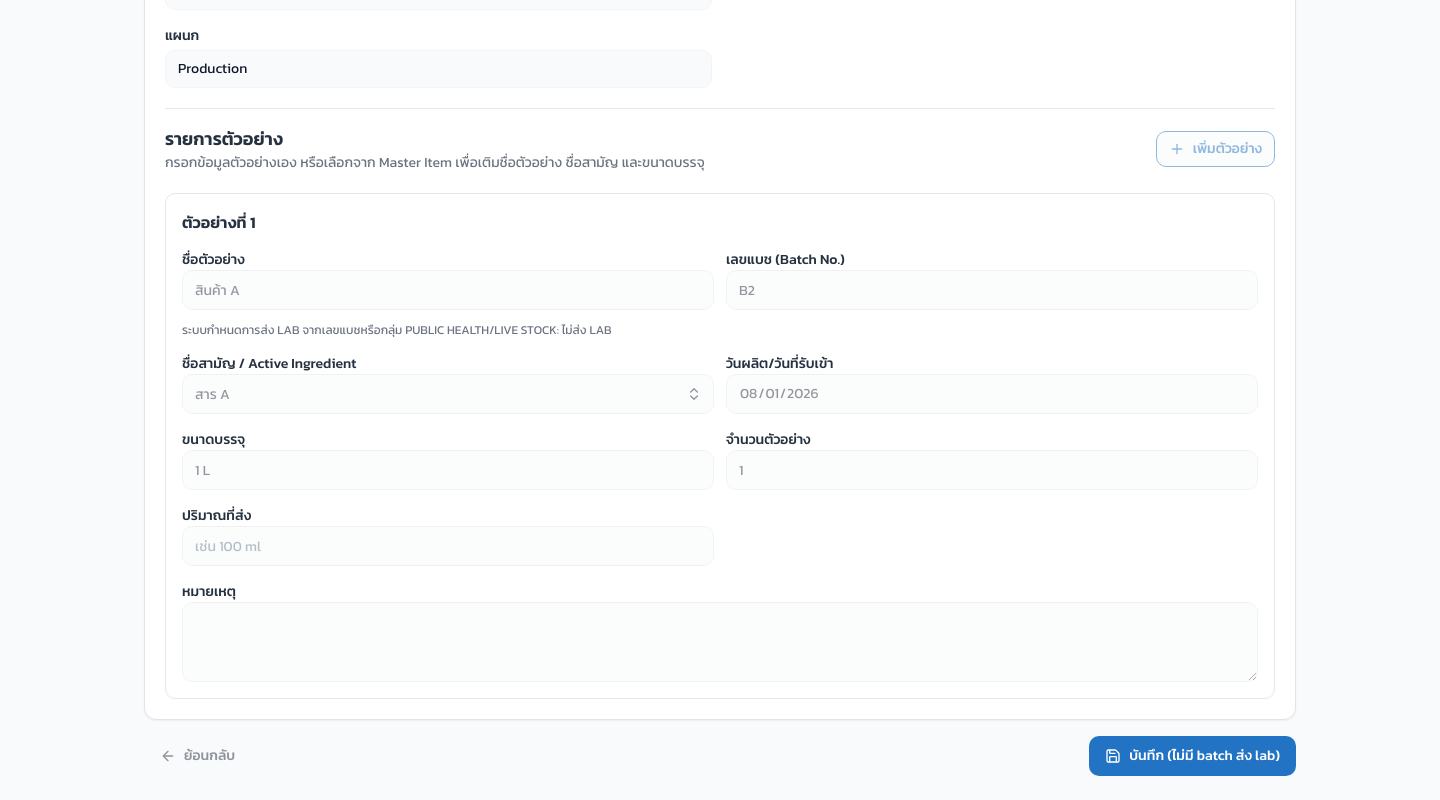
Test: ProductionPetitionNewPage approval QR timing › does not show QR label preview immediately after save
The image size is (1440, 800).
(page scrolled)
Click the button "บันทึก (ไม่มี batch ส่ง lab)" at point(1193, 756), box [1089,736,1296,776]
(page scrolled)
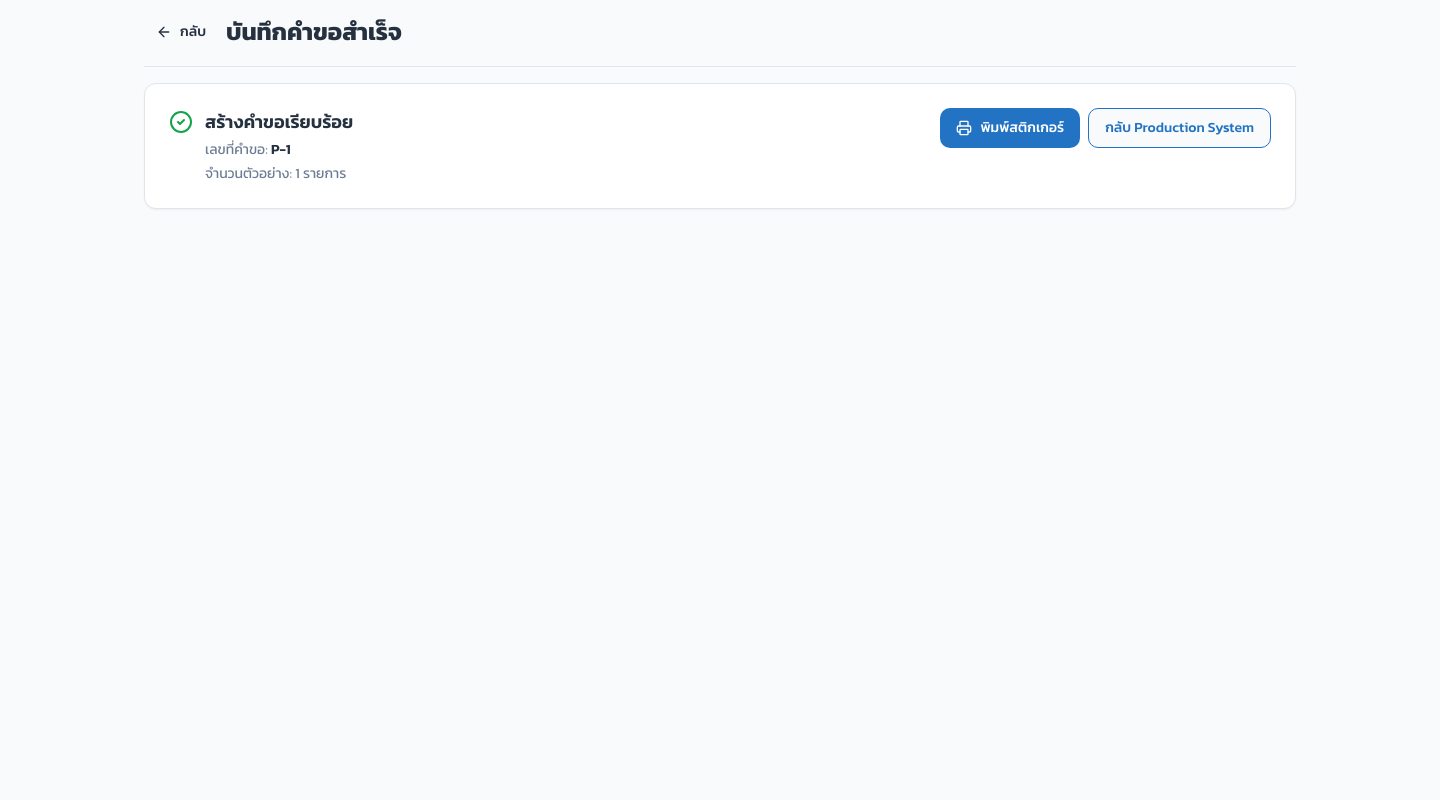
Check: the heading "บันทึกคำขอสำเร็จ" is shown, box [226,16,402,48]
